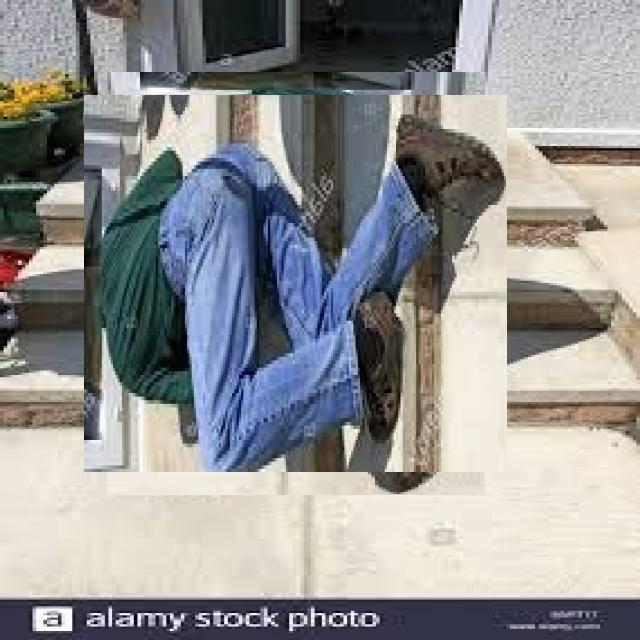Fall: (110, 128, 426, 458)
